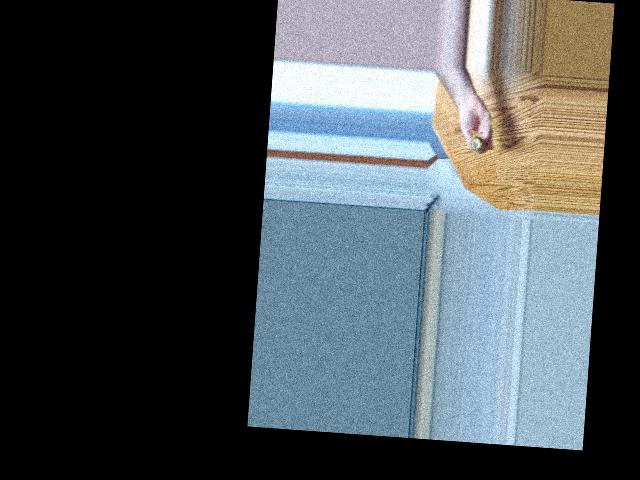sweet_potato: (466, 136, 483, 157)
